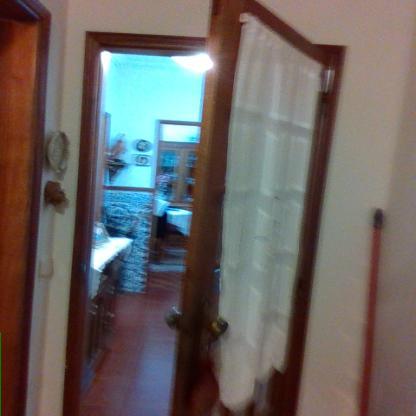semi: (67, 2, 355, 414)
